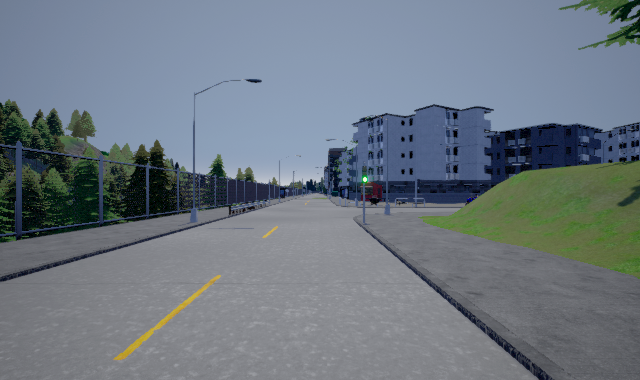traffic_light: (362, 162, 367, 186)
